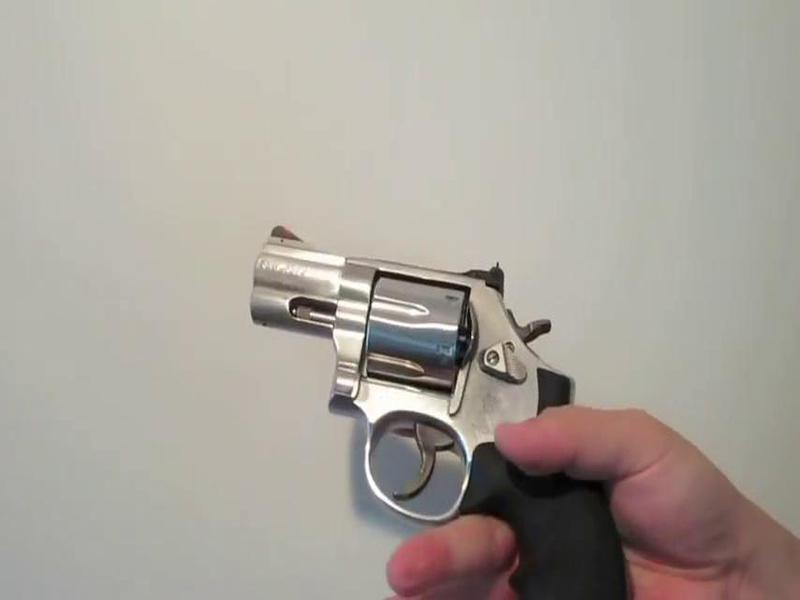Revolver: (189, 207, 681, 583)
